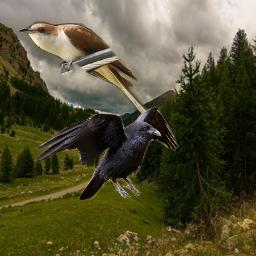Crow: (34, 106, 179, 200)
Cuckoo: (17, 21, 170, 138)
